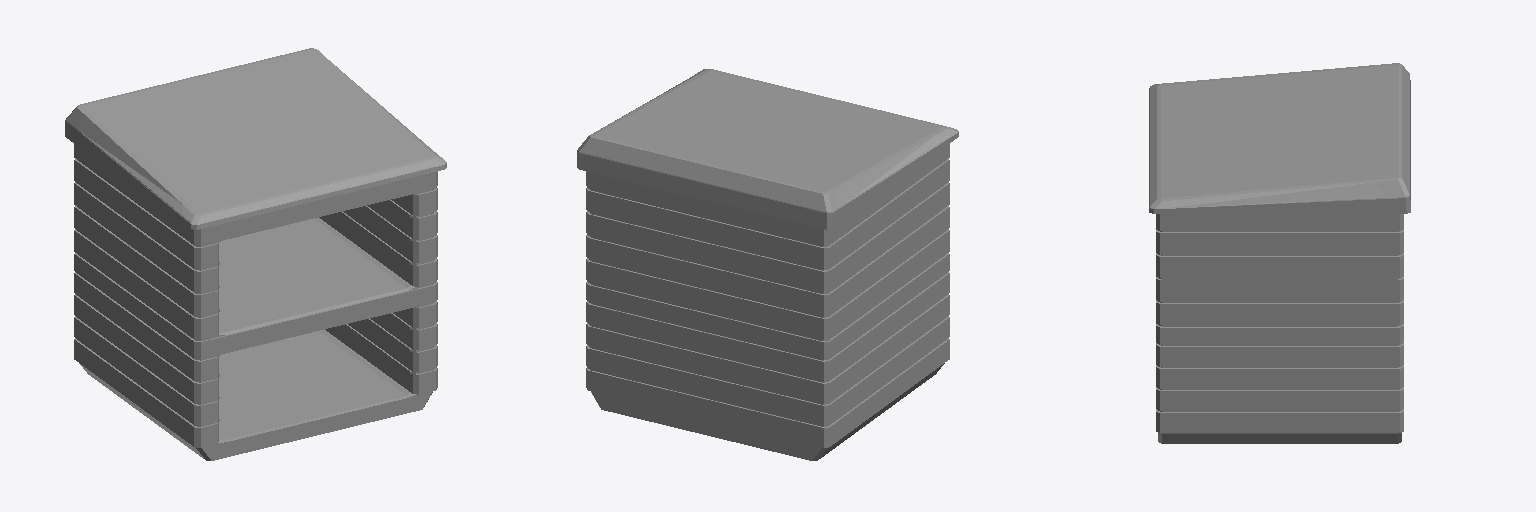
File: storagebuildingbase.obj
3 renders of one model, left to right at view 1: azimuth 30°, elevation 25°; view 2: azimuth 150°, elevation 25°; view 3: azimuth 270°, elevation 25°, orthographic.
Size of the model in its own units: 6.04 by 6.09 by 5.35.